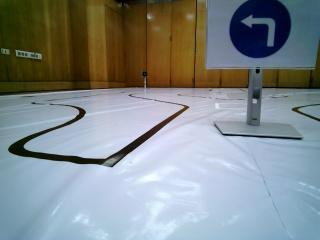left: (210, 5, 318, 70)
